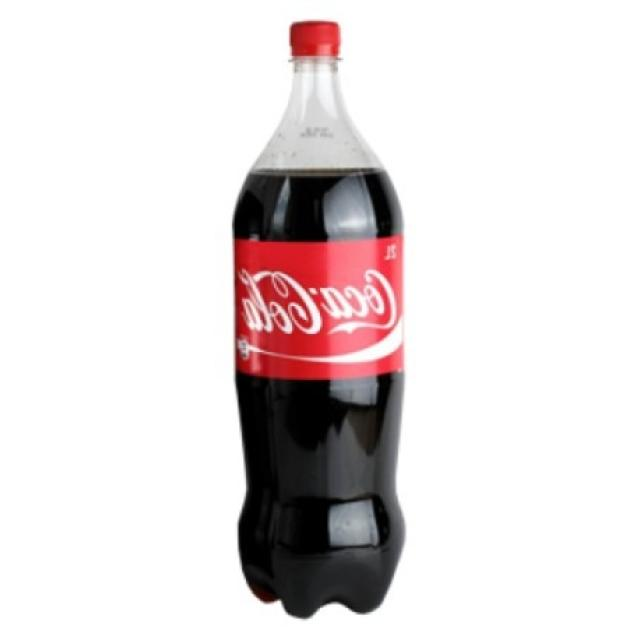coca cola: (234, 257, 404, 346)
